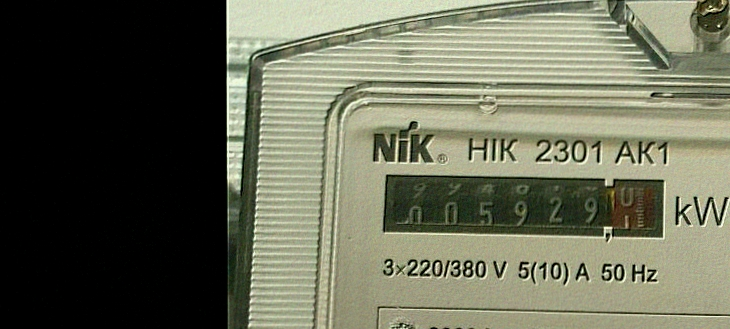0: (442, 199, 461, 227), (405, 201, 426, 224), (618, 185, 637, 208)
2: (546, 194, 565, 227)
5: (477, 199, 495, 227)
9: (510, 198, 531, 228), (582, 194, 601, 227), (410, 181, 428, 199)
screen: (377, 168, 672, 248)
